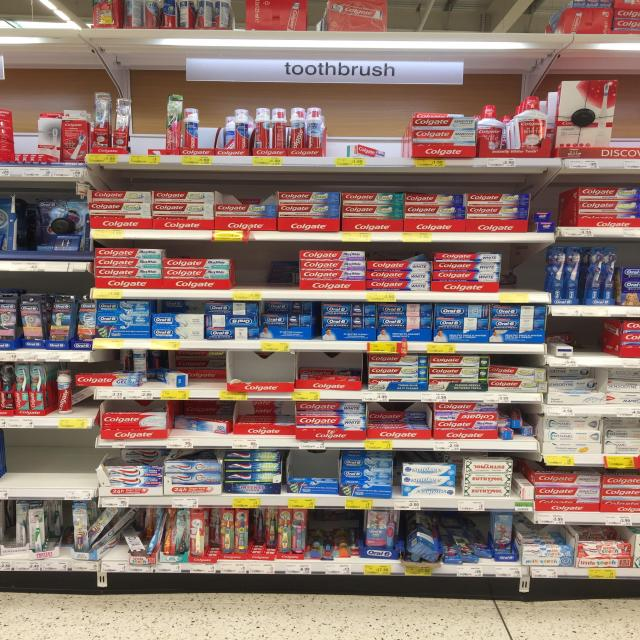empty_space: (12, 436, 87, 480), (240, 245, 287, 287), (510, 252, 540, 292), (578, 322, 605, 358)
